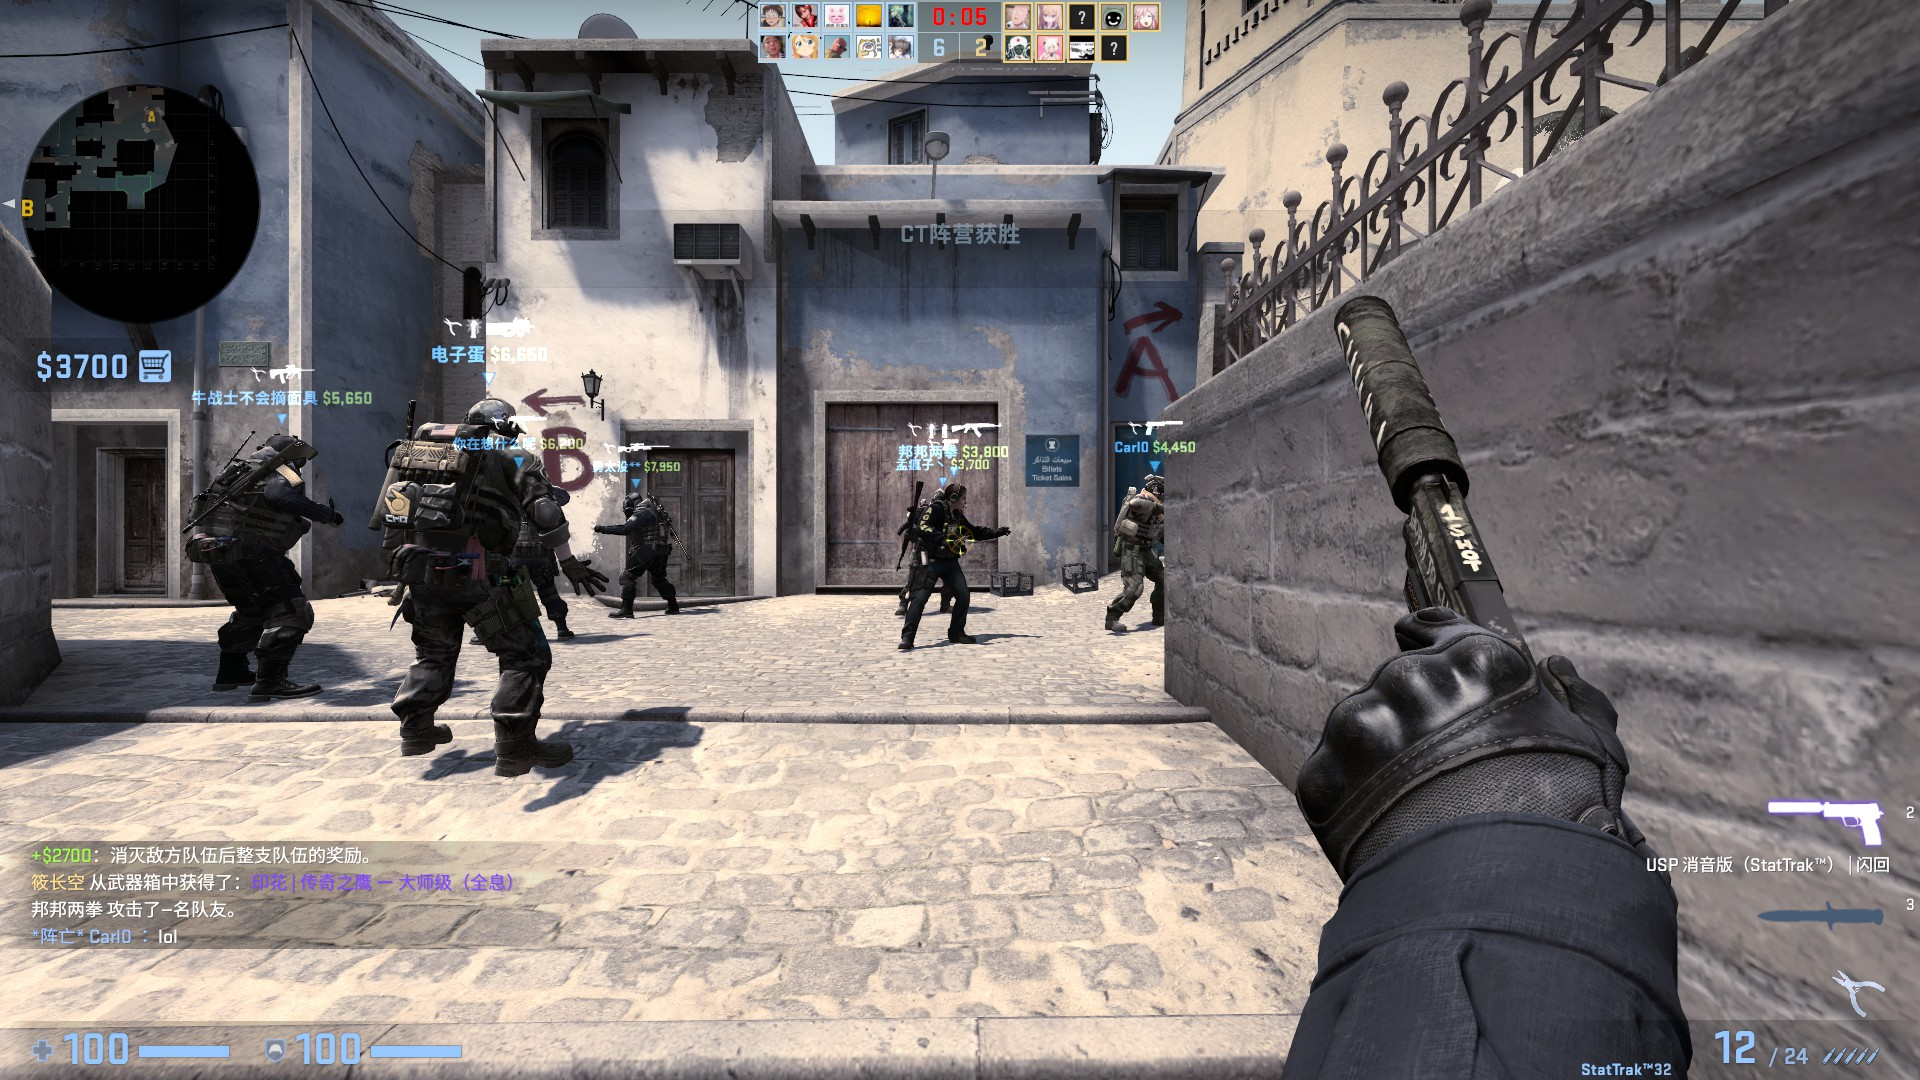head: (465, 396, 520, 442), (264, 431, 314, 472), (946, 482, 968, 512), (1143, 473, 1165, 499), (621, 490, 643, 513)
